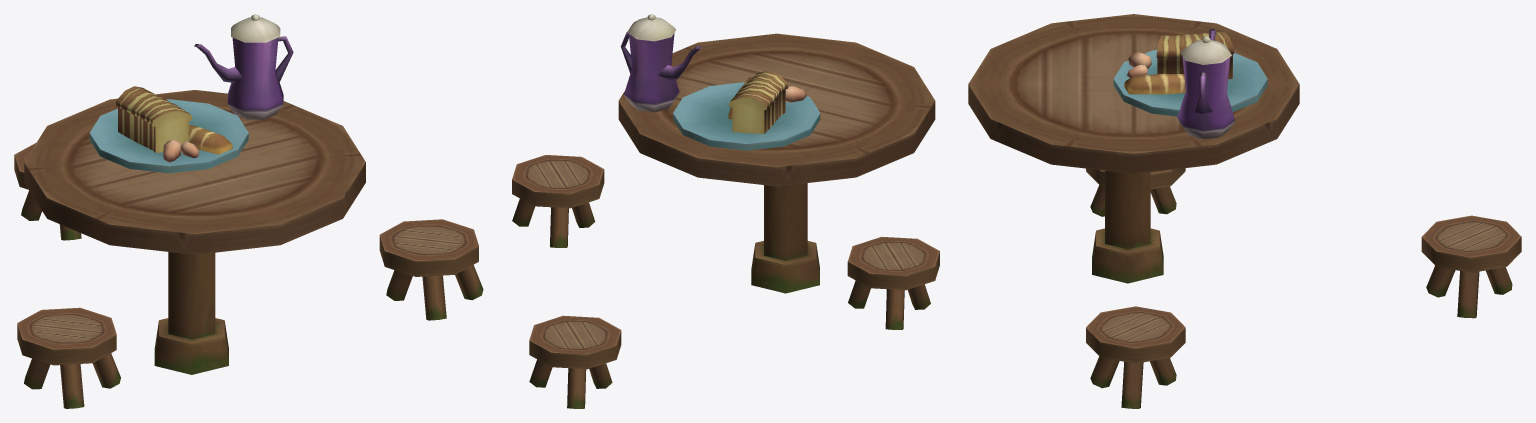
File: scene_lawennushandao_zhuozi01.FBX
3 views of the same model, side by side, from view 1: azimuth 30°, elevation 25°; view 2: azimuth 150°, elevation 25°; view 3: azimuth 270°, elevation 25° (orthographic). The views are drawn at different scales.
Parts seen in each view (by area): view 1: scene_lawennushandao_zhuozi01; view 2: scene_lawennushandao_zhuozi01; view 3: scene_lawennushandao_zhuozi01.
Part boxes in pixels (box(x1,y1,x2,y2)): scene_lawennushandao_zhuozi01: box(14, 14, 483, 408); scene_lawennushandao_zhuozi01: box(512, 14, 939, 408); scene_lawennushandao_zhuozi01: box(968, 14, 1521, 408).
Bounding box in the file's own units: 260 × 162 × 281.
